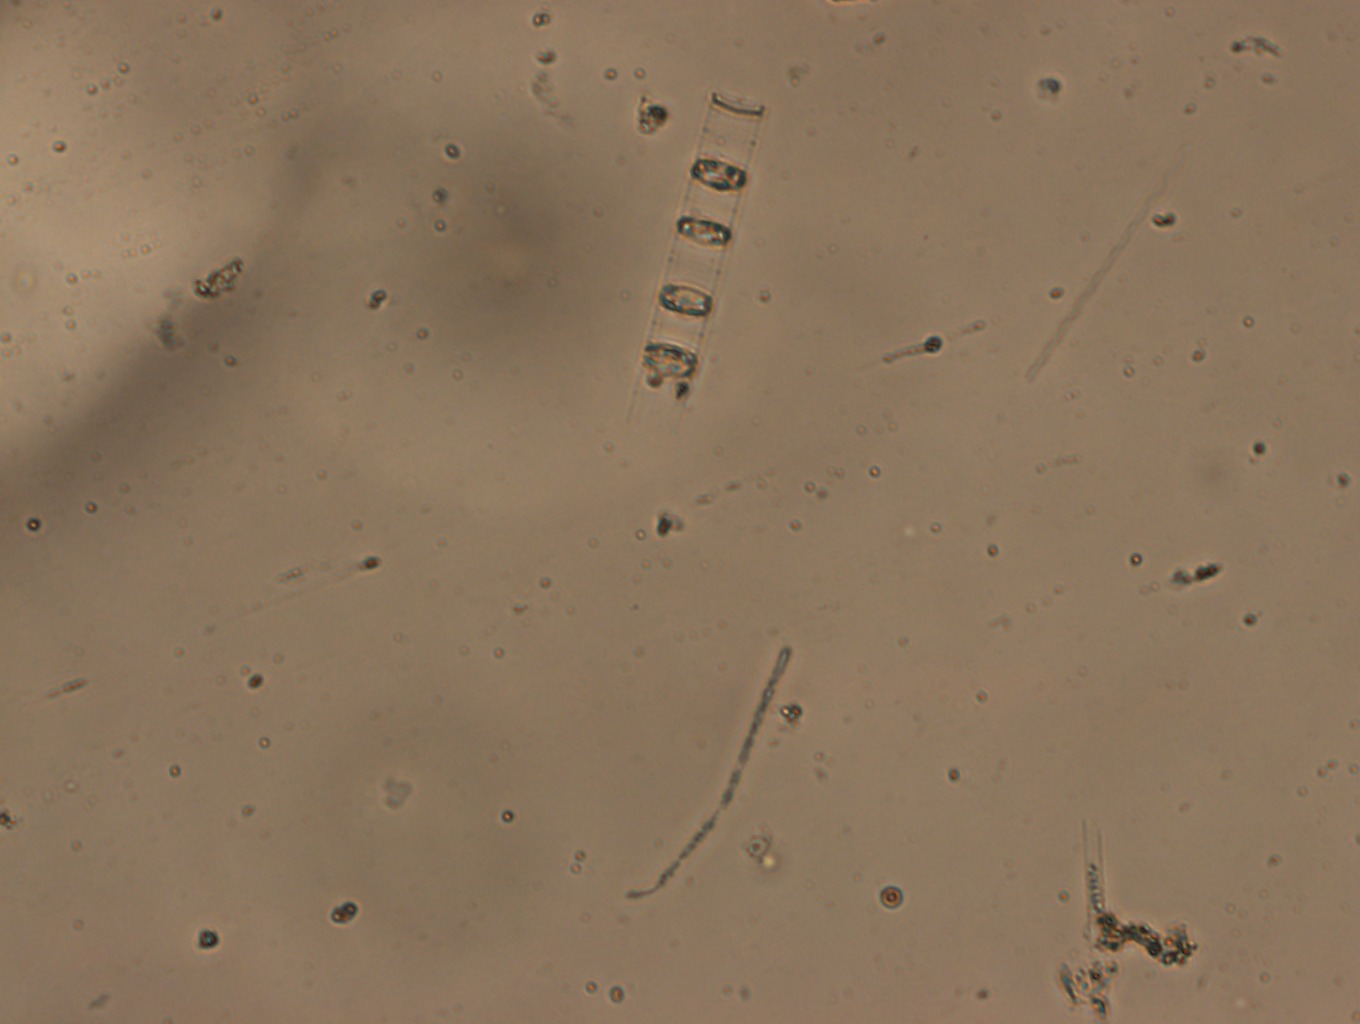skeletonema: (619, 91, 767, 422)
